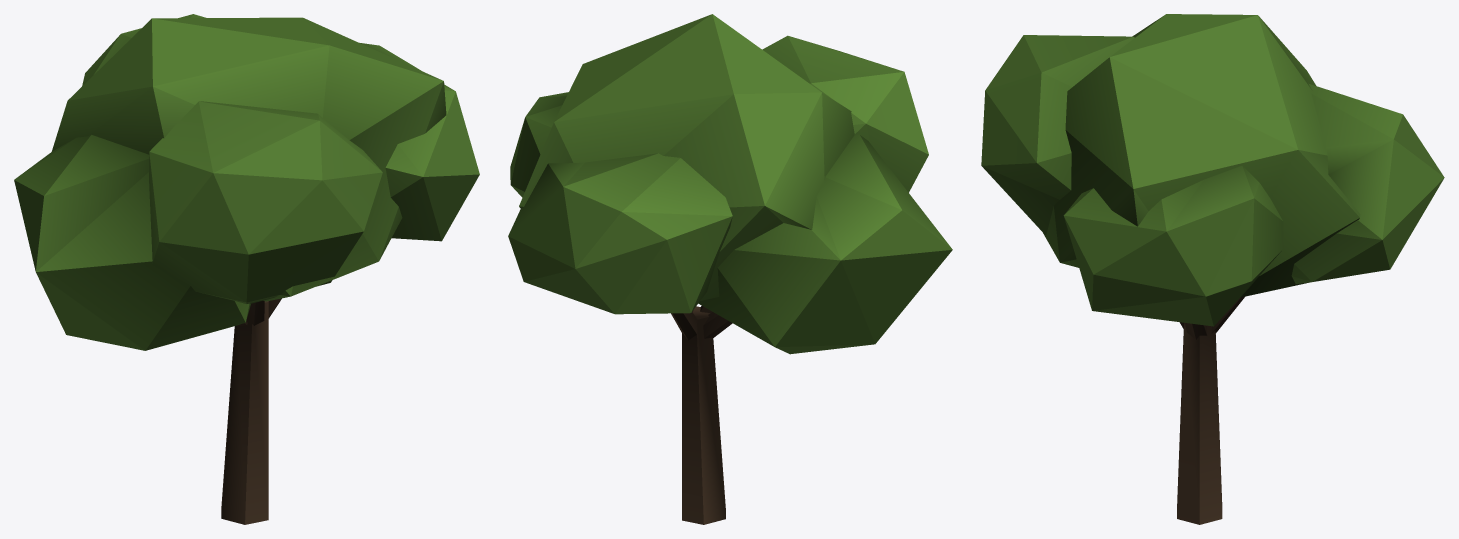
Rendered from apricot_3.glb.
3 views of the same model, side by side, from view 1: azimuth 30°, elevation 25°; view 2: azimuth 150°, elevation 25°; view 3: azimuth 270°, elevation 25° (orthographic). The views are drawn at different scales.
Parts seen in each view (by area): view 1: trunk; view 2: trunk; view 3: trunk.
Part boxes in pixels (x1,y1,x2,y2): trunk: [14, 14, 479, 524]; trunk: [508, 14, 952, 524]; trunk: [981, 14, 1444, 524].
Bounding box in the file's own units: 5.62 × 6 × 5.31.
